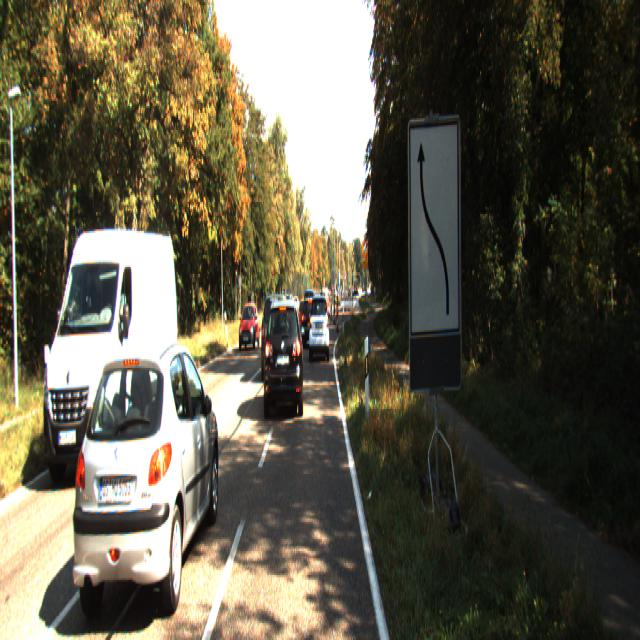Car: (73, 327, 221, 628), (46, 218, 178, 473), (263, 293, 304, 415), (260, 290, 292, 377), (309, 291, 329, 356), (239, 298, 260, 346)
